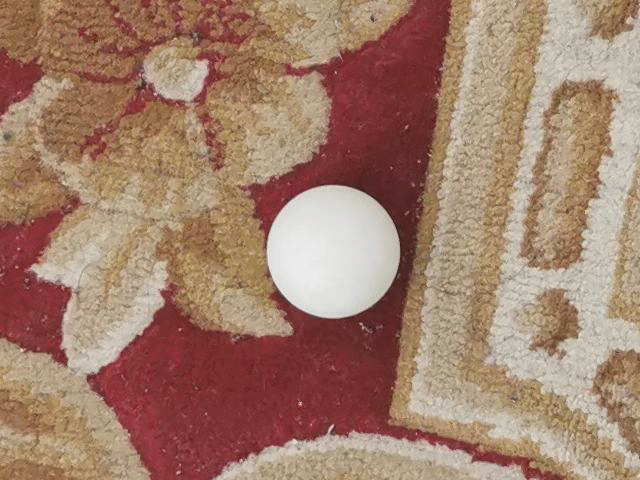ball: (268, 182, 400, 321)
